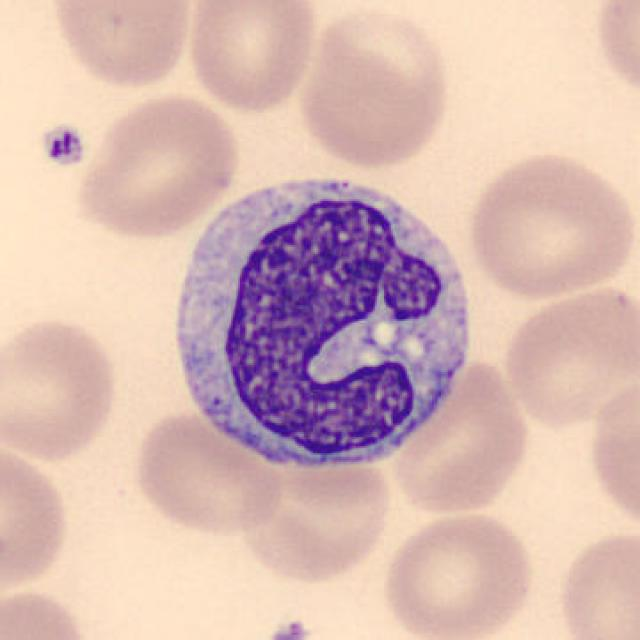Monocyte: (157, 159, 487, 483)
Platelets: (37, 120, 89, 171), (260, 617, 314, 640)
RBC: (293, 2, 455, 173), (462, 146, 636, 302), (73, 88, 243, 240), (228, 439, 396, 585), (388, 356, 534, 518), (128, 406, 288, 540), (378, 506, 538, 640), (498, 280, 636, 432), (0, 312, 123, 464), (183, 0, 322, 115), (43, 0, 197, 92), (0, 441, 73, 596), (553, 525, 638, 640), (583, 370, 638, 538), (0, 585, 96, 640), (590, 0, 638, 102)
